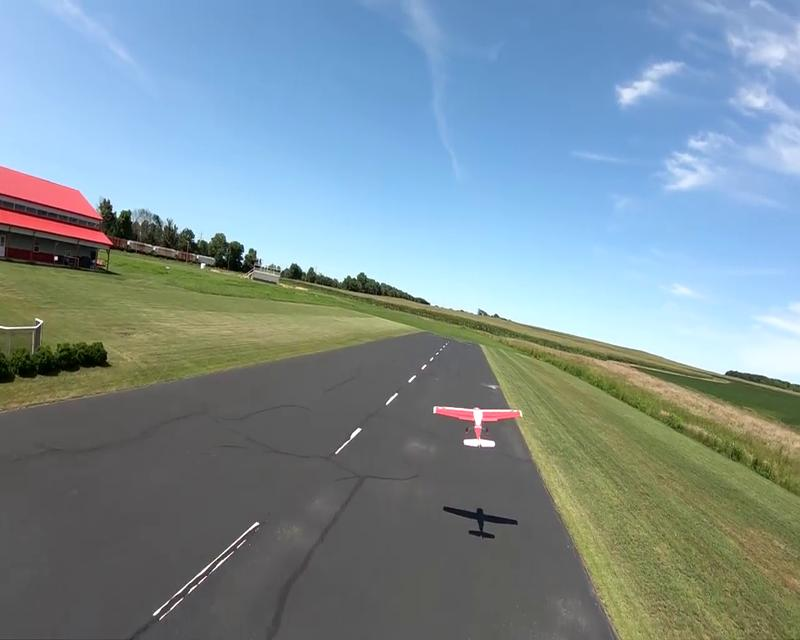UAV: (431, 404, 523, 447), (441, 504, 518, 539)
